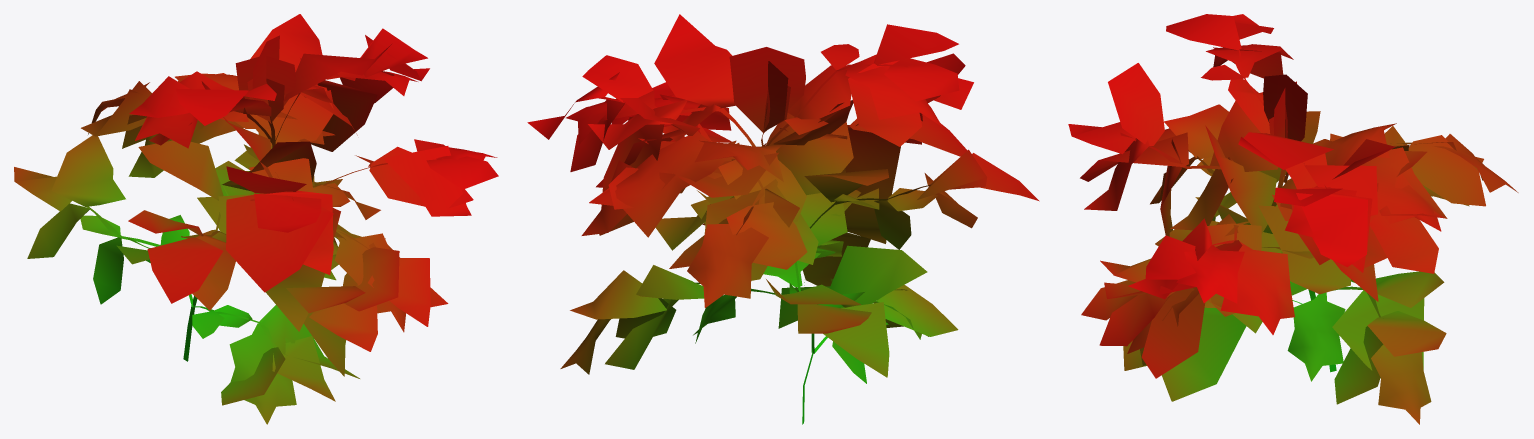
The model's file is Var4_LOD5.fbx.
The picture shows the model from 3 angles, left to right: view 1: azimuth 30°, elevation 25°; view 2: azimuth 150°, elevation 25°; view 3: azimuth 270°, elevation 25°; orthographic projection. The views are drawn at different scales.
Parts seen in each view (by area): view 1: _n2qm_Var4_LOD5; view 2: _n2qm_Var4_LOD5; view 3: _n2qm_Var4_LOD5.
Boxes of the visible parts, box(x1,y1,x2,y2) form: _n2qm_Var4_LOD5: box(14, 14, 498, 424); _n2qm_Var4_LOD5: box(527, 14, 1039, 424); _n2qm_Var4_LOD5: box(1068, 14, 1518, 424).
Size of the model in its own units: 101 by 84.4 by 105.
